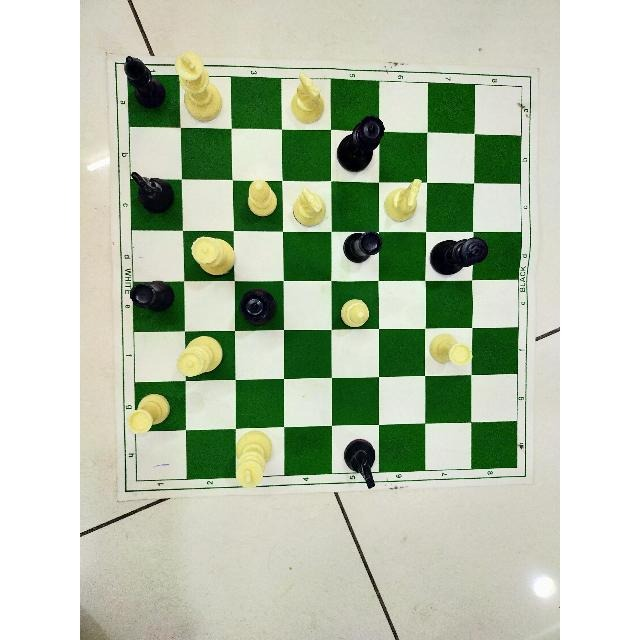black-bishop: (119, 50, 169, 111)
black-king: (429, 230, 491, 278)
black-knight: (124, 164, 176, 220), (340, 434, 384, 488)
black-queen: (336, 113, 384, 173), (231, 286, 279, 329)
black-rook: (123, 275, 177, 317), (341, 226, 385, 269)
white-bishop: (237, 177, 279, 219), (335, 294, 373, 332)
white-king: (171, 48, 225, 122), (226, 429, 275, 486)
white-knight: (282, 71, 328, 127), (291, 182, 329, 230), (382, 179, 421, 225)
white-queen: (175, 332, 225, 378), (188, 233, 238, 275)
white-rook: (423, 332, 472, 376), (127, 390, 173, 435)
